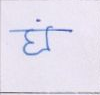anusvara: (36, 19, 41, 23)
